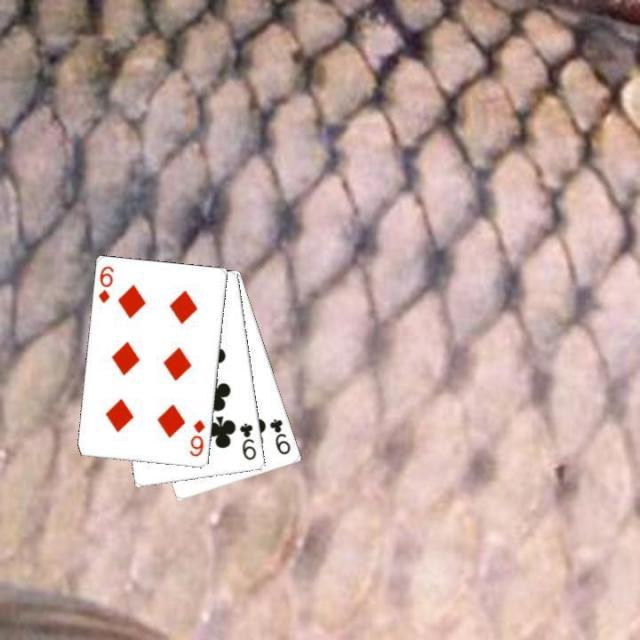6D: (186, 416, 207, 459), (95, 262, 116, 305)
9C: (266, 414, 292, 457), (236, 419, 258, 462)
